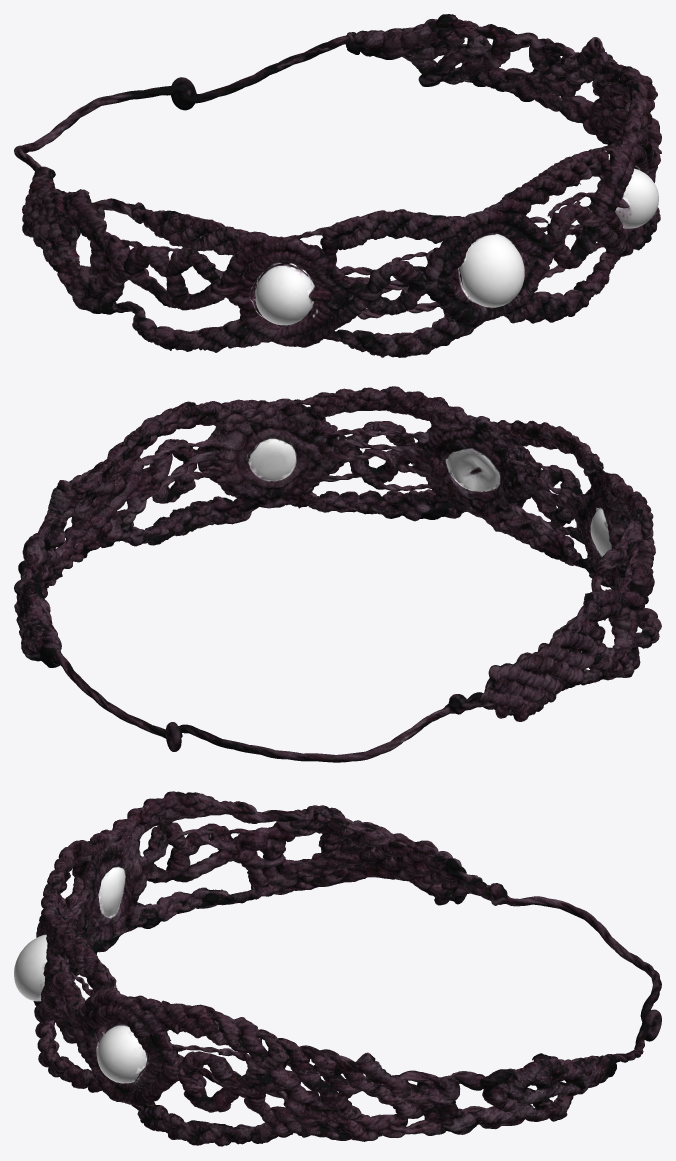
The model's file is bracelet.gltf.
3 renders of one model, top to bottom at view 1: azimuth 30°, elevation 25°; view 2: azimuth 150°, elevation 25°; view 3: azimuth 270°, elevation 25°, orthographic. The views are drawn at different scales.
Bounding box in the file's own units: 1.88 × 0.4611 × 1.91.
1 material, 1 textured.
